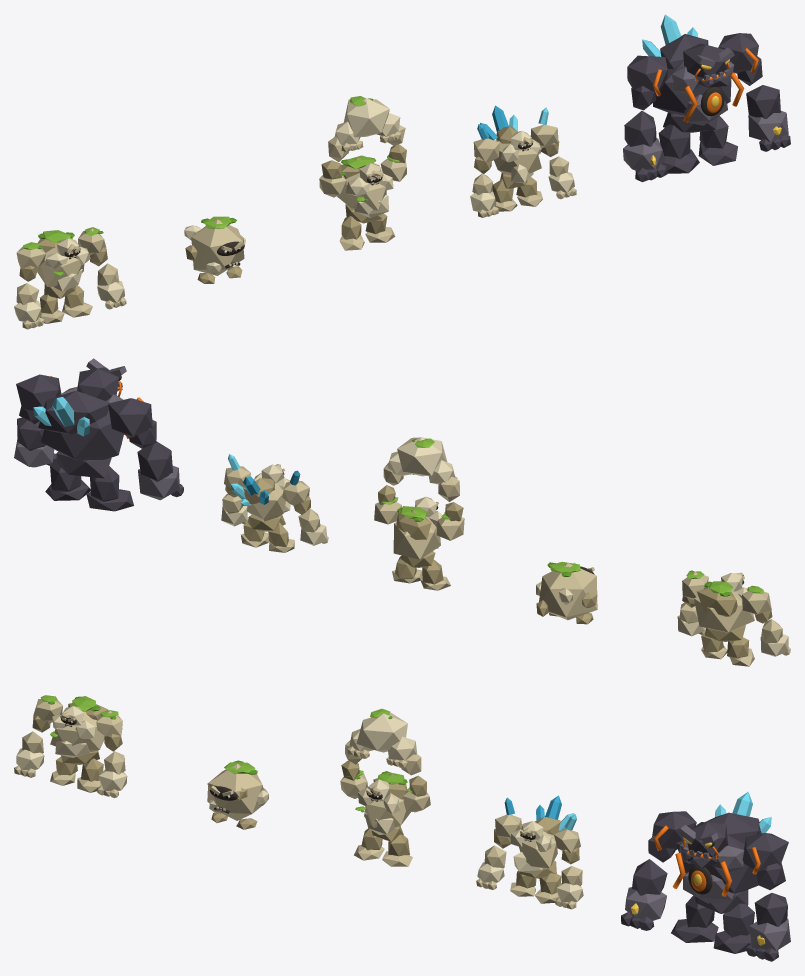
The model's file is craqueleurs.glb.
3 views of the same model, one above another, from view 1: azimuth 30°, elevation 25°; view 2: azimuth 150°, elevation 25°; view 3: azimuth 330°, elevation 25° (orthographic).
Parts seen in each view (by area): view 1: corps, rocher, torse.003, epaule.006, epaule.007, avant_bras.007, tete.003, avant_bras.006, poing.007, poing.006, jambe.006, torse.002 (+7 smaller); view 2: torse.003, corps, dos.003, epaule.006, rocher, epaule.007, torse, torse.001, avant_bras.006, tete.003, bassin.003, poing.006 (+9 smaller); view 3: corps, rocher, epaule.007, torse.003, epaule.006, avant_bras.006, poing.007, poing.006, dos.003, avant_bras.007, tete.003, torse (+16 smaller).
Part boxes in pixels (<box>): corps: <box>191,219,244,275</box>; rocher: <box>343,98,389,137</box>; torse.003: <box>653,61,731,115</box>; epaule.006: <box>627,55,667,92</box>; epaule.007: <box>718,33,758,73</box>; avant_bras.007: <box>746,85,780,118</box>; tete.003: <box>683,43,727,77</box>; avant_bras.006: <box>624,110,656,146</box>; poing.007: <box>748,110,788,142</box>; poing.006: <box>623,138,665,170</box>; jambe.006: <box>658,124,690,159</box>; torse.002: <box>494,140,541,174</box>; torse.003: <box>41,393,123,461</box>; corps: <box>539,563,597,620</box>; dos.003: <box>38,391,109,434</box>; epaule.006: <box>108,398,152,437</box>; rocher: <box>397,437,447,476</box>; epaule.007: <box>16,374,61,413</box>; torse: <box>694,590,754,632</box>; torse.001: <box>393,516,440,559</box>; avant_bras.006: <box>137,441,172,481</box>; tete.003: <box>77,367,118,400</box>; bassin.003: <box>56,451,111,478</box>; poing.006: <box>138,466,179,500</box>; corps: <box>207,763,263,820</box>; rocher: <box>356,712,407,752</box>; epaule.007: <box>742,833,788,872</box>; torse.003: <box>676,835,758,893</box>; epaule.006: <box>652,811,696,850</box>; avant_bras.006: <box>632,859,667,895</box>; poing.007: <box>749,918,790,950</box>; poing.006: <box>625,887,666,920</box>; dos.003: <box>705,812,761,843</box>; avant_bras.007: <box>754,893,787,926</box>; tete.003: <box>687,822,728,857</box>; torse: <box>50,712,104,751</box>.
Bounding box in the file's own units: 16.7 × 3.08 × 2.07.
